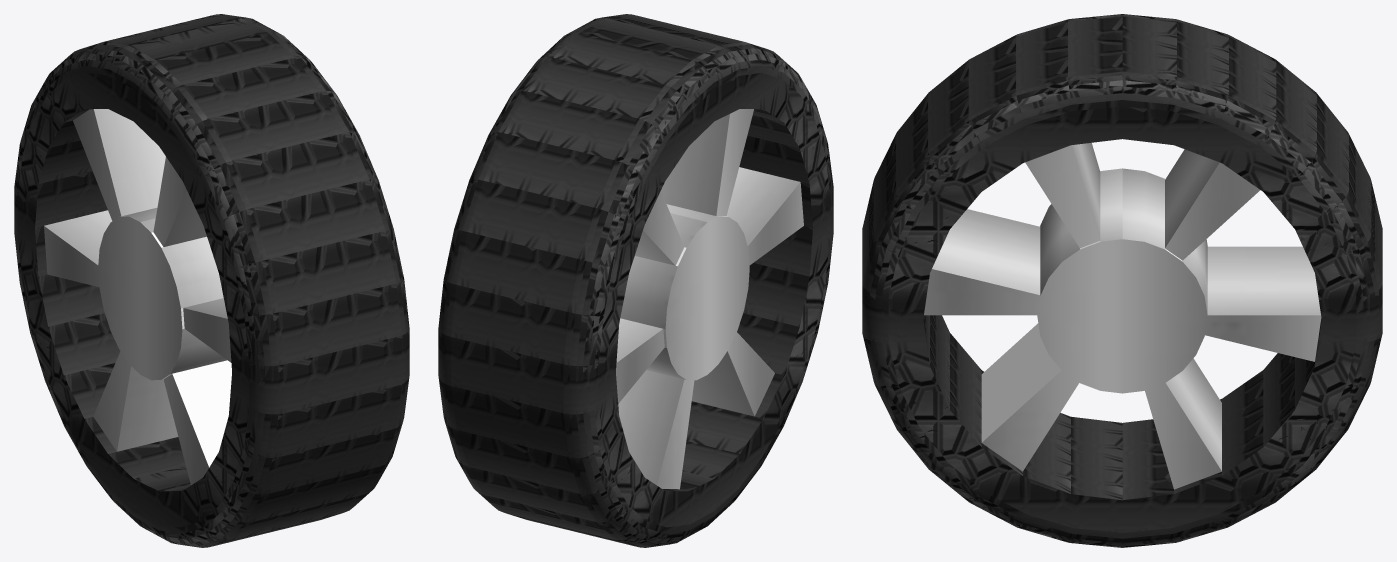
File: Pneu.obj
The picture shows the model from 3 angles, left to right: view 1: azimuth 30°, elevation 25°; view 2: azimuth 150°, elevation 25°; view 3: azimuth 270°, elevation 25°; orthographic projection.
Parts seen in each view (by area): view 1: Mesh1 Model; view 2: Mesh1 Model; view 3: Mesh1 Model.
Boxes of the visible parts, box(x1,y1,x2,y2) form: Mesh1 Model: box(14, 14, 409, 547); Mesh1 Model: box(438, 14, 833, 547); Mesh1 Model: box(862, 14, 1382, 547).
Size of the model in its own units: 3.5 by 10 by 9.95.
